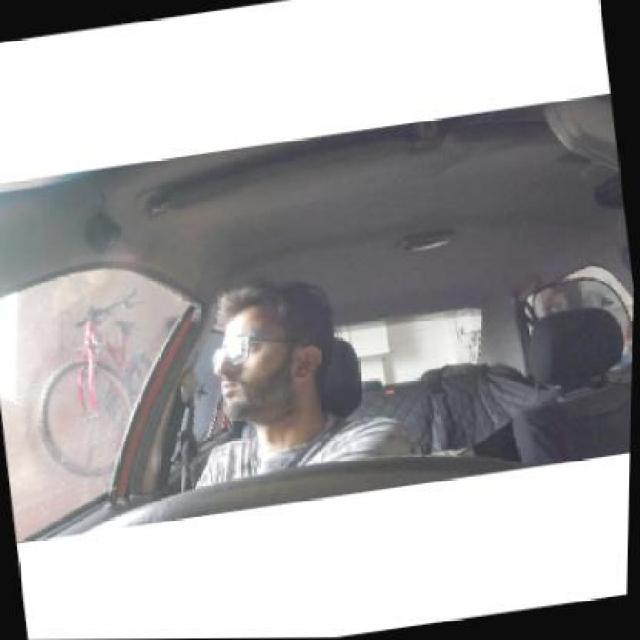drowsy: (170, 268, 368, 455)
